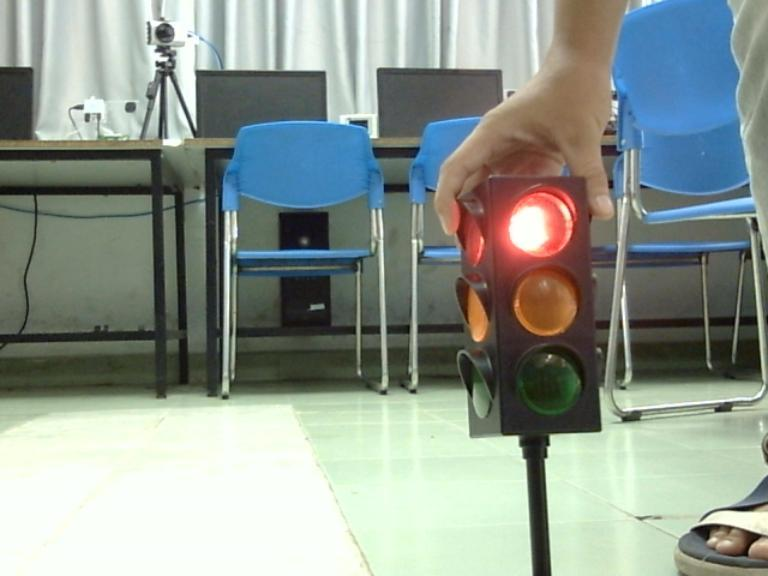red: (504, 181, 582, 258)
